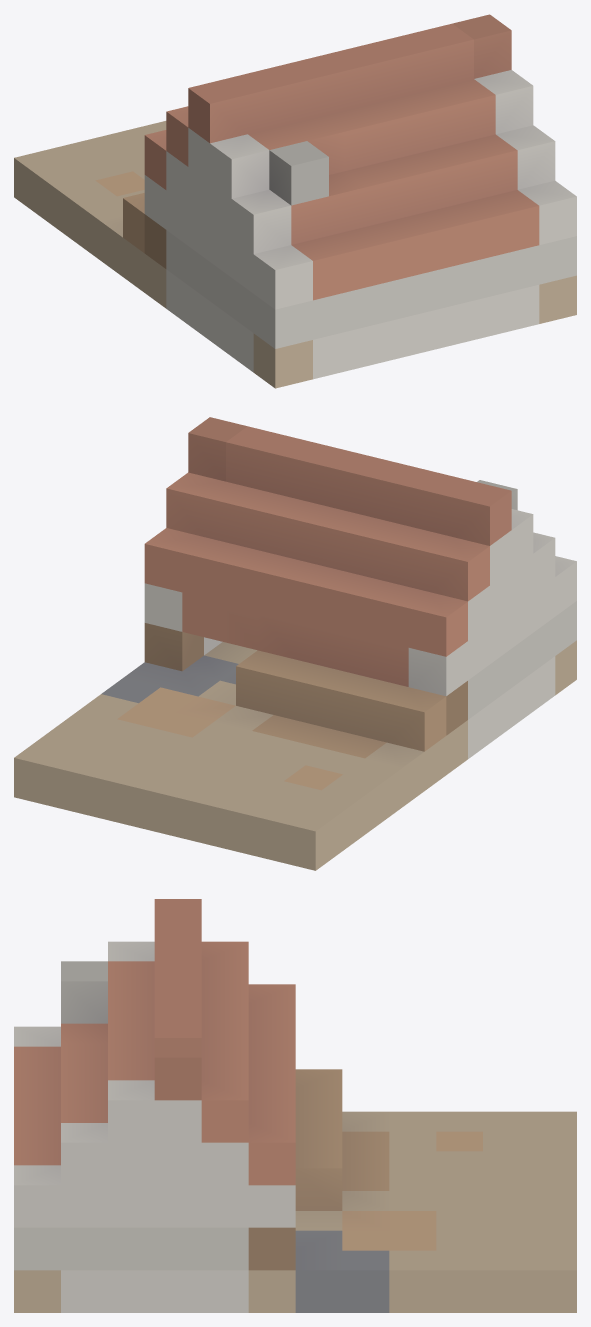
Rendered from cooperage.lite.glb.
3 renders of one model, top to bottom at view 1: azimuth 30°, elevation 25°; view 2: azimuth 150°, elevation 25°; view 3: azimuth 270°, elevation 25°, orthographic. The views are drawn at different scales.
Visible parts, largest first — view 1: cooperage; view 2: cooperage; view 3: cooperage.
Part boxes in pixels (x1=…): cooperage: x1=14, y1=14, x2=576, y2=388; cooperage: x1=14, y1=417, x2=576, y2=870; cooperage: x1=14, y1=899, x2=576, y2=1312.
Size of the model in its own units: 4 by 3 by 6.
